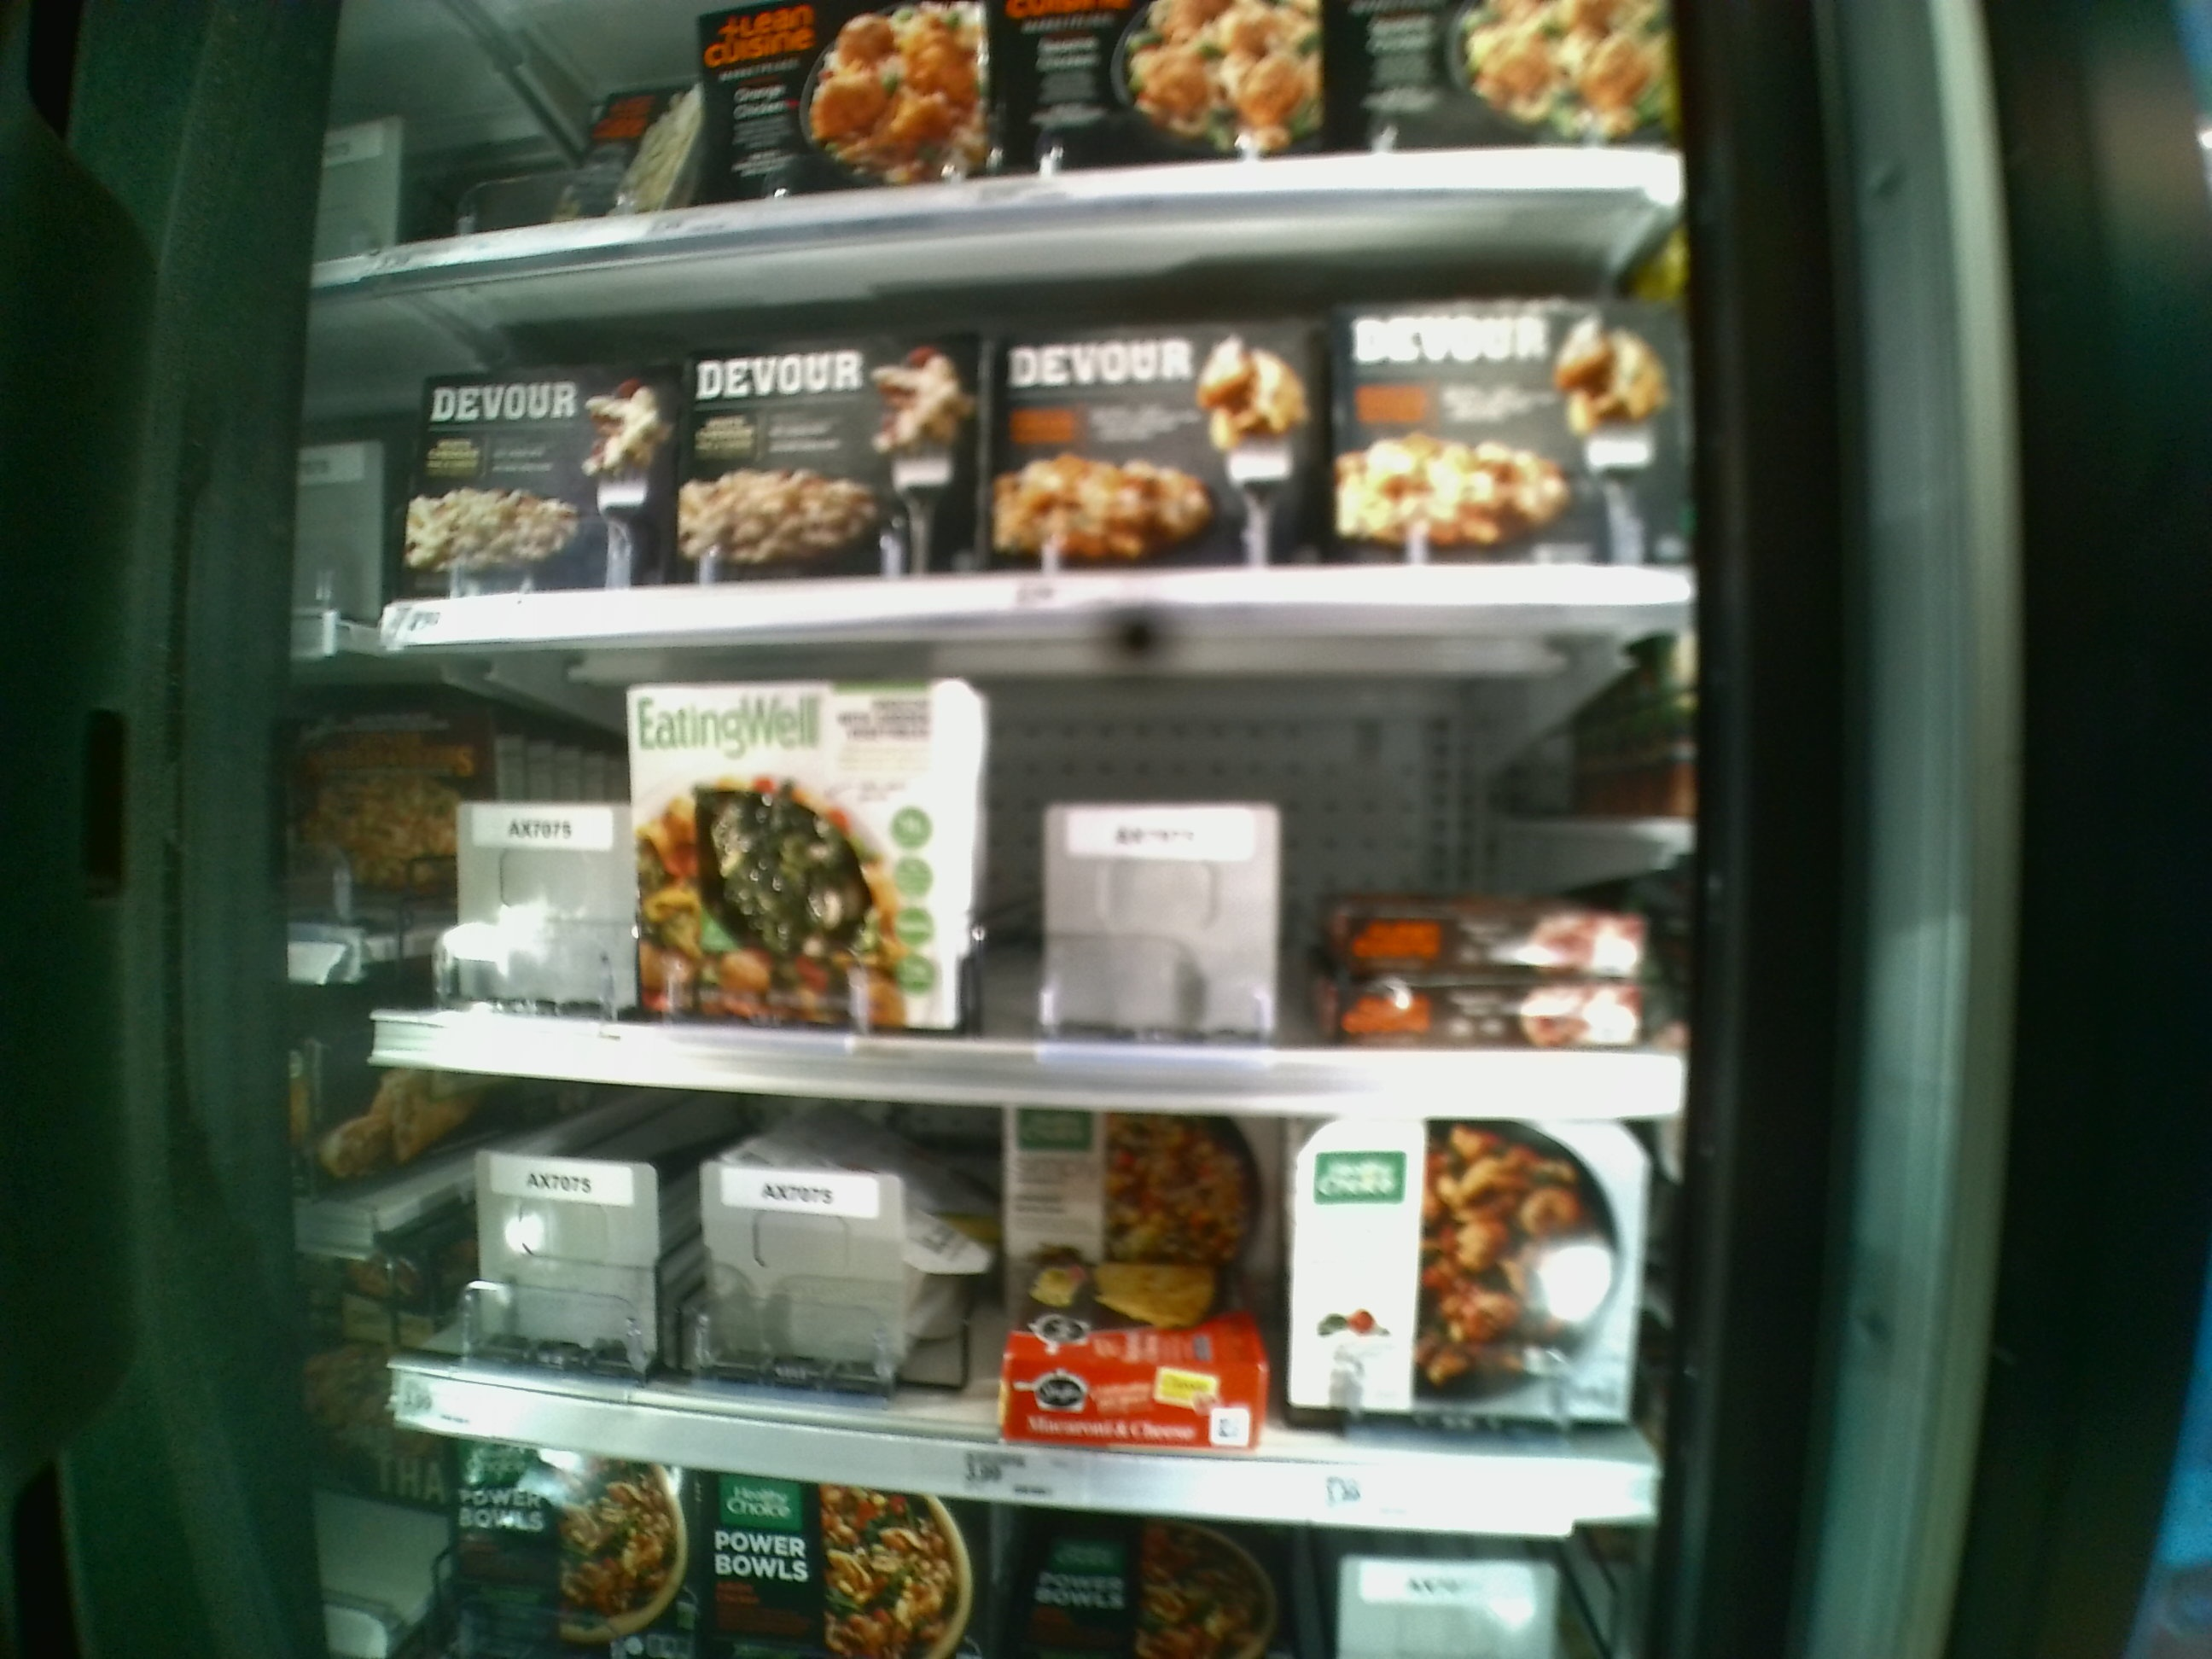shelf: (380, 612, 1700, 1122), (366, 1065, 1676, 1525), (369, 197, 1689, 652)
